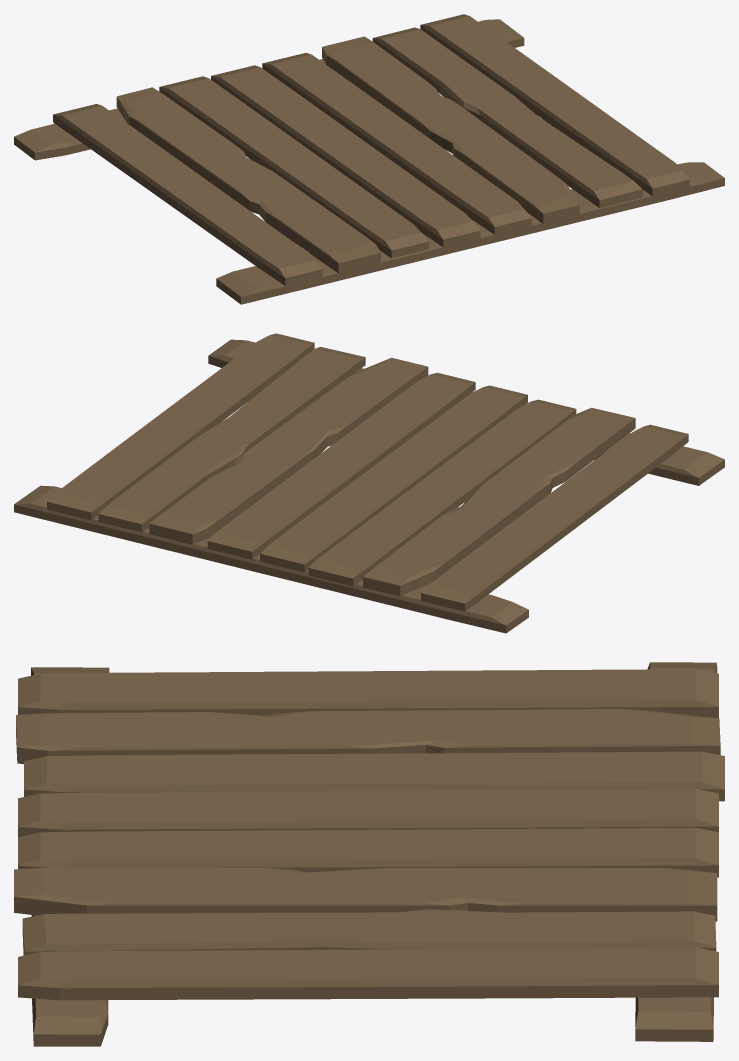
File: PierPlatform.fbx
3 renders of one model, top to bottom at view 1: azimuth 30°, elevation 25°; view 2: azimuth 150°, elevation 25°; view 3: azimuth 270°, elevation 25°, orthographic. The views are drawn at different scales.
Visible parts, largest first — view 1: Plane.065; view 2: Plane.065; view 3: Plane.065.
Boxes of the visible parts, x1,y1,x2,y2 form: Plane.065: (14, 14, 724, 304); Plane.065: (14, 333, 724, 633); Plane.065: (14, 662, 724, 1046).
Size of the model in its own units: 1022 by 47.1 by 824.
